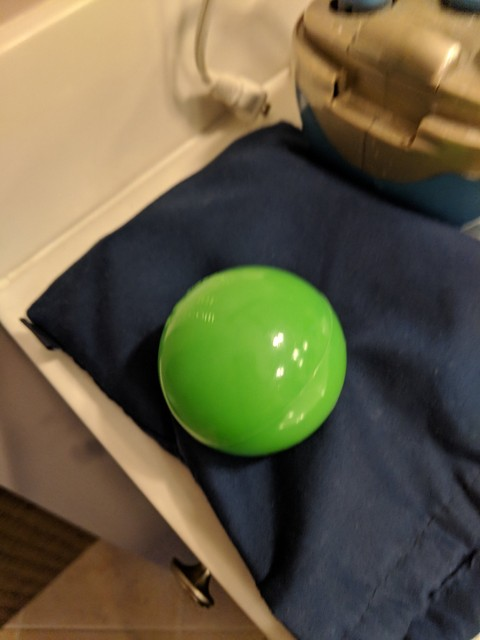Ball: (163, 265, 348, 453)
